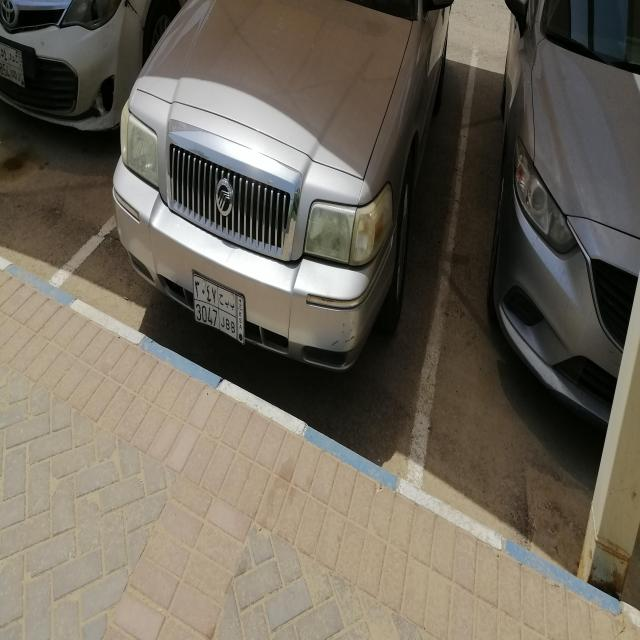license_plate: (191, 272, 248, 348)
